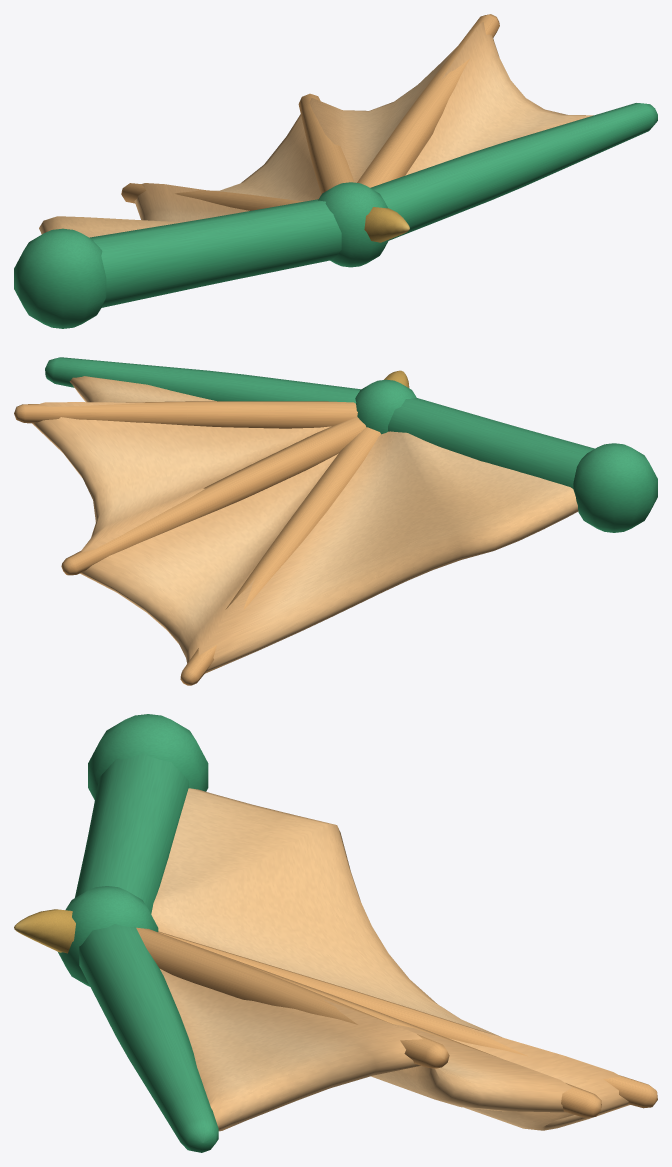
Rendered from shadow-whelp-wing.glb.
3 renders of one model, top to bottom at view 1: azimuth 30°, elevation 25°; view 2: azimuth 150°, elevation 25°; view 3: azimuth 270°, elevation 25°, orthographic. The views are drawn at different scales.
Parts seen in each view (by area): view 1: Whelp_wing; view 2: Whelp_wing; view 3: Whelp_wing.
Boxes of the visible parts, x1,y1,x2,y2 form: Whelp_wing: (14, 14, 657, 328); Whelp_wing: (14, 357, 657, 685); Whelp_wing: (14, 714, 657, 1152).
Bounding box in the file's own units: 0.4531 × 0.1219 × 0.3137.
1 material, 1 textured.
